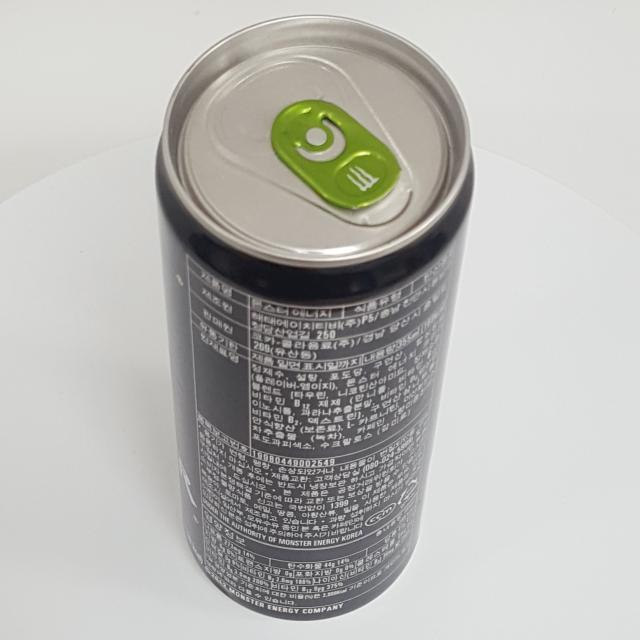--------355ML: (155, 14, 474, 621)
